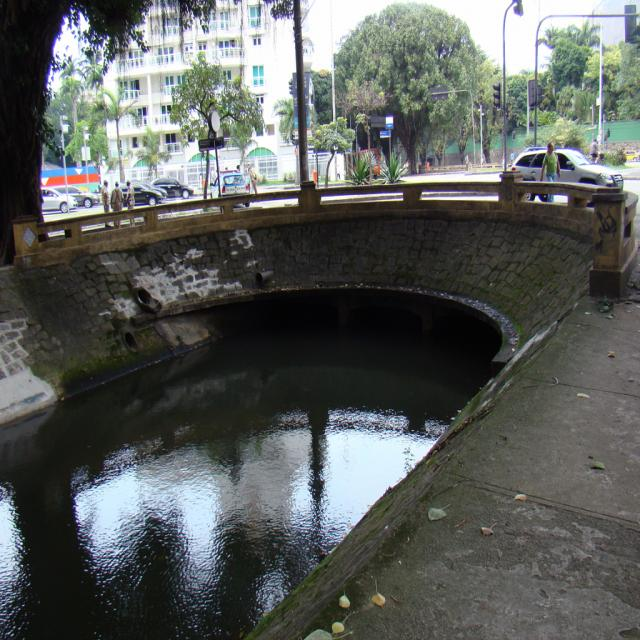other: (499, 135, 592, 198), (209, 166, 249, 204), (115, 181, 163, 203), (40, 184, 78, 210), (56, 182, 94, 205), (150, 175, 196, 194), (164, 175, 190, 204)
